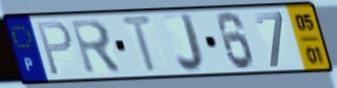6: (216, 10, 256, 73)
7: (252, 11, 285, 69)
J: (175, 11, 207, 75)
P: (35, 19, 75, 78)
R: (68, 18, 125, 77)
T: (119, 14, 159, 76)
